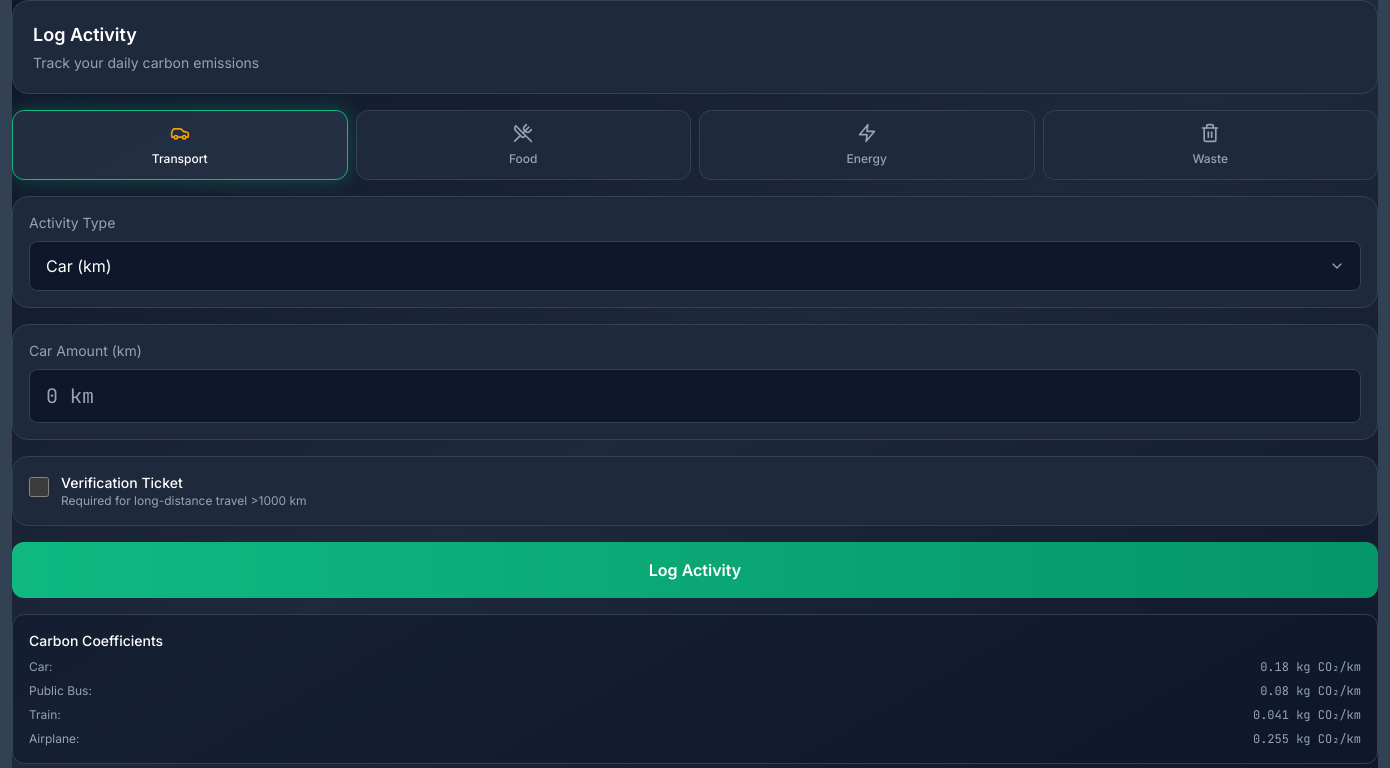
Test: ActivityLogger – Category Selection › hides verification ticket for walking
Select "Walking (km)" in the dropdown labelled "Activity Type": (695, 266) [29,241,1361,291]
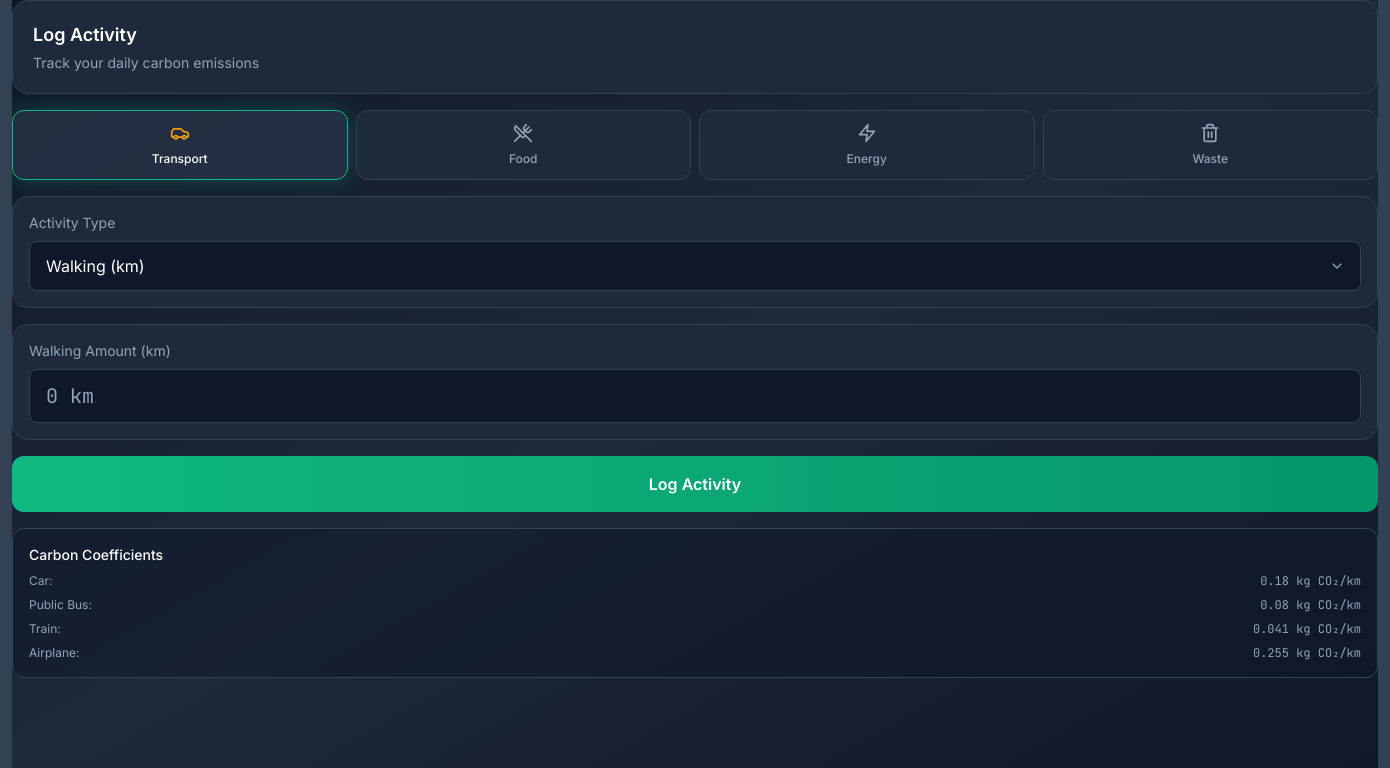
Result: the text "Verification Ticket" is gone
